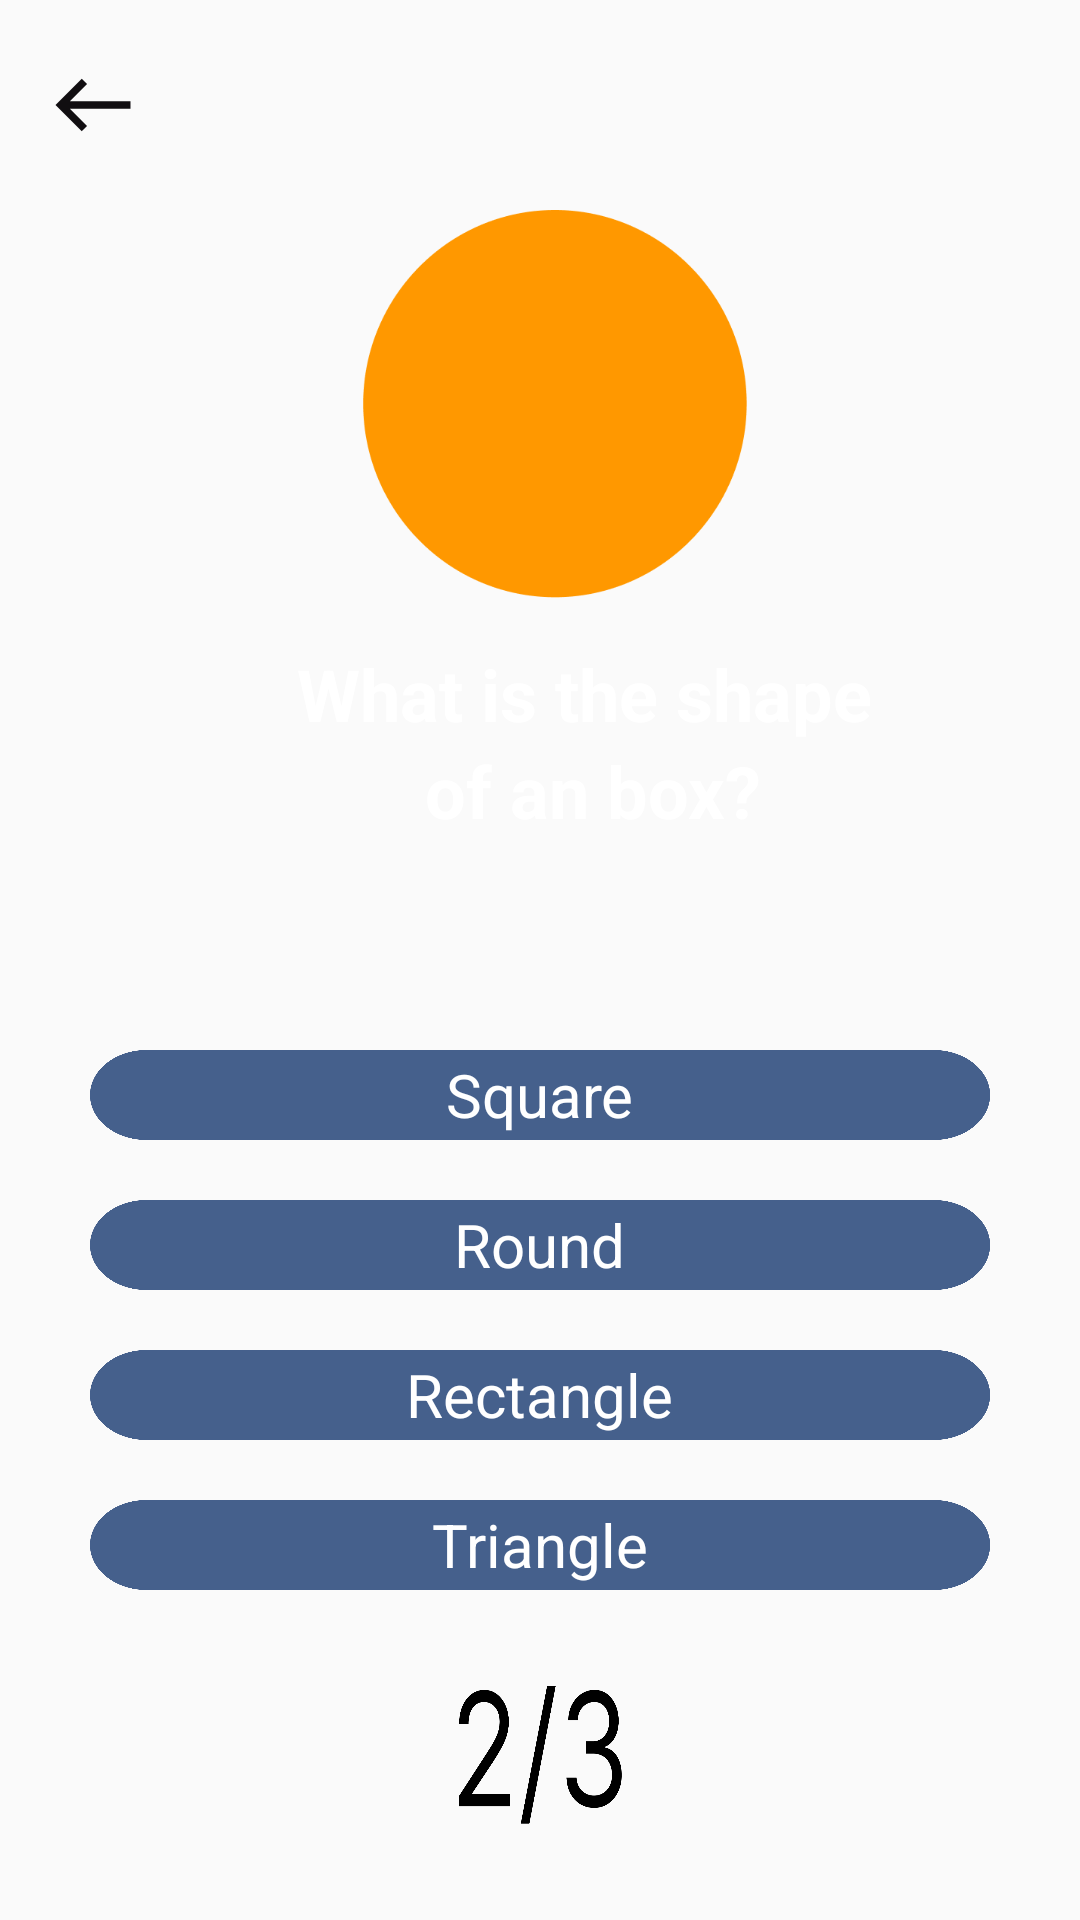

Icons on this 1080*1920 Android screen, each with its box as (x1, y1, x2, y2):
west: (55, 79, 131, 131)
